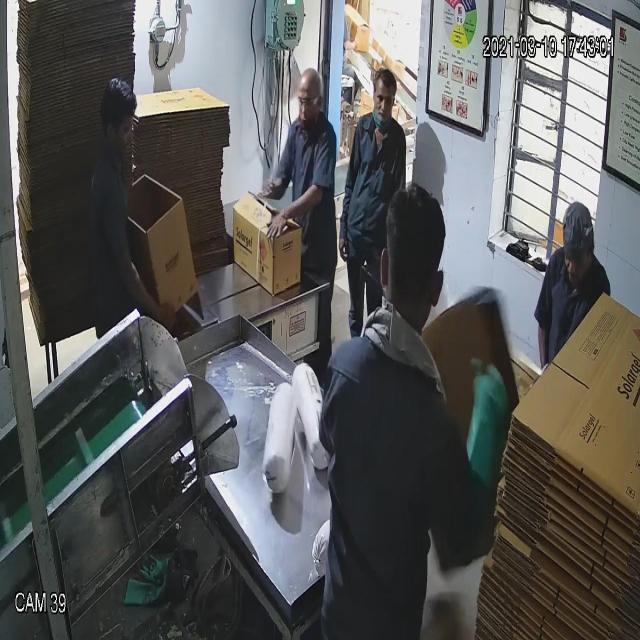gloves: (455, 358, 521, 491)
no-gloves: (118, 252, 196, 354), (263, 185, 333, 248)
